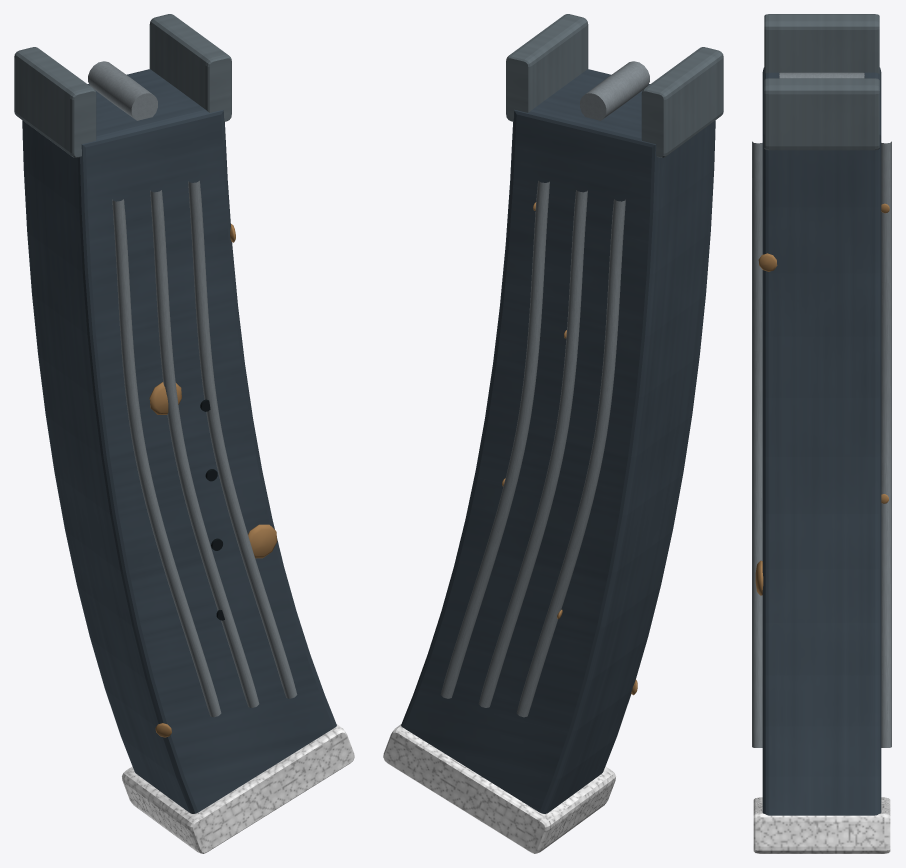
The picture shows the model from 3 angles, left to right: view 1: azimuth 30°, elevation 25°; view 2: azimuth 150°, elevation 25°; view 3: azimuth 270°, elevation 25°; orthographic projection. The views are drawn at different scales.
Parts seen in each view (by area): view 1: machined receiver, edge hardware, brushed steel, vulcanized grip, peened pin; view 2: machined receiver, edge hardware, brushed steel, vulcanized grip; view 3: machined receiver, brushed steel, edge hardware, vulcanized grip, peened pin.
Part boxes in pixels (box(x1,y1,x2,y2)): machined receiver: box(22, 69, 336, 813); edge hardware: box(88, 61, 297, 717); brushed steel: box(14, 14, 231, 157); vulcanized grip: box(122, 724, 354, 853); peened pin: box(149, 224, 277, 737); machined receiver: box(401, 69, 715, 813); edge hardware: box(440, 61, 649, 717); brushed steel: box(506, 14, 723, 157); vulcanized grip: box(383, 724, 615, 853); machined receiver: box(762, 67, 881, 815); brushed steel: box(764, 14, 879, 150); edge hardware: box(752, 72, 891, 747); vulcanized grip: box(753, 797, 890, 853); peened pin: box(755, 253, 777, 595).
Bounding box in the file's own units: 0.1027 × 0.2778 × 0.046.
Materials: 6 (4 with a texture image).
